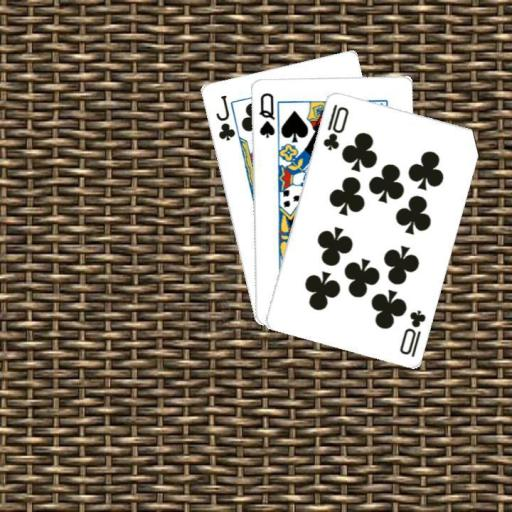10C: (396, 307, 427, 359), (319, 101, 350, 152)
JC: (212, 91, 237, 142)
QS: (255, 90, 276, 140)
